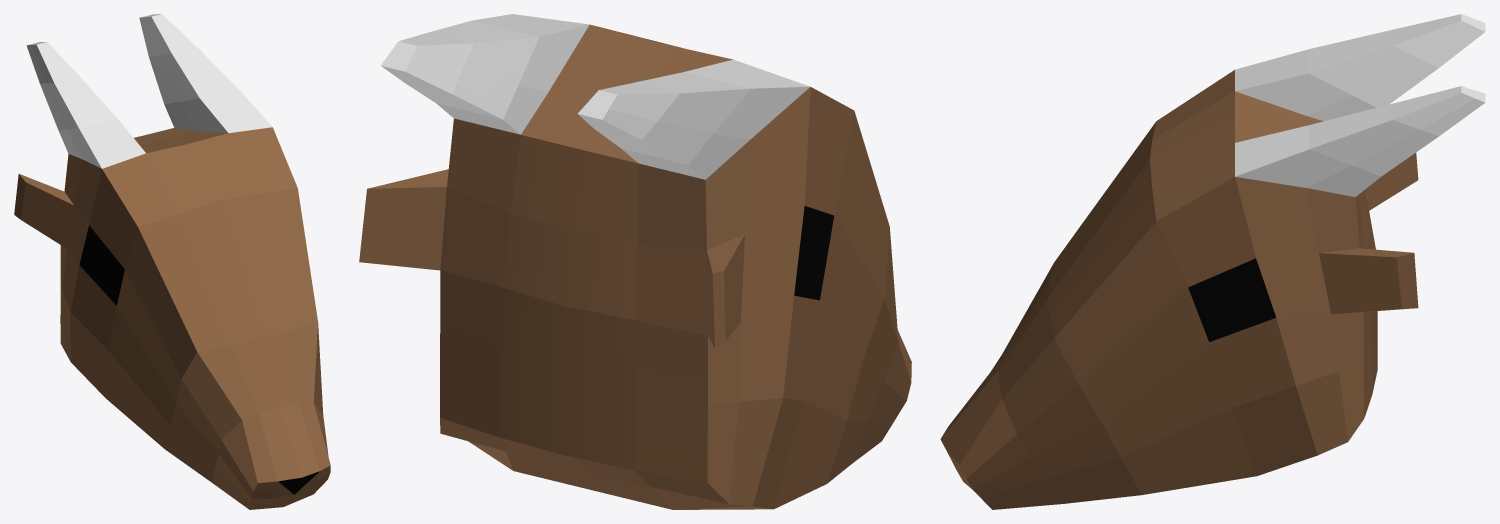
File: Anoa_Kepala.fbx
3 views of the same model, side by side, from view 1: azimuth 30°, elevation 25°; view 2: azimuth 150°, elevation 25°; view 3: azimuth 270°, elevation 25° (orthographic). The views are drawn at different scales.
Visible parts, largest first — view 1: Kepala.001; view 2: Kepala.001; view 3: Kepala.001.
Part boxes in pixels (bbox=[...]): Kepala.001: bbox=[14, 14, 330, 509]; Kepala.001: bbox=[359, 14, 911, 509]; Kepala.001: bbox=[940, 14, 1485, 509].
Size of the model in its own units: 106 by 170 by 191.
